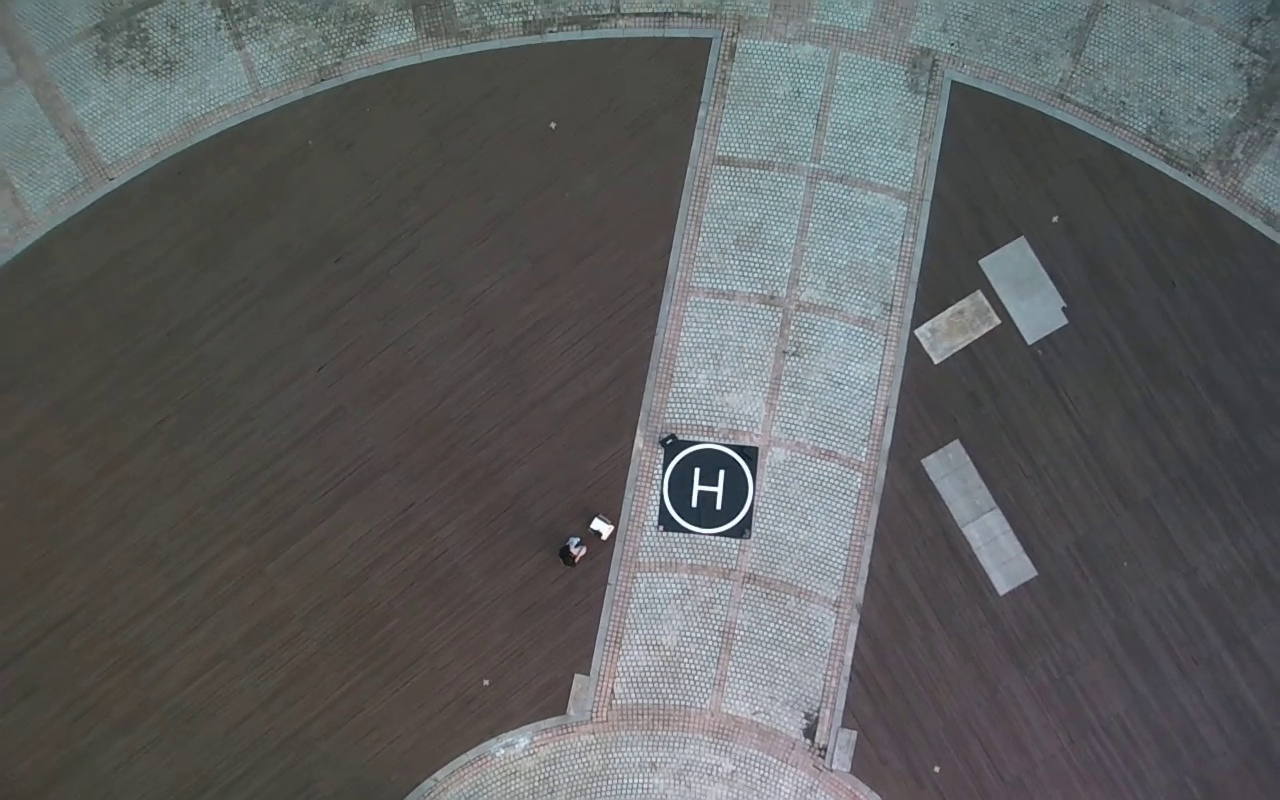H: (690, 467, 725, 511)
heliport: (663, 444, 752, 534)
